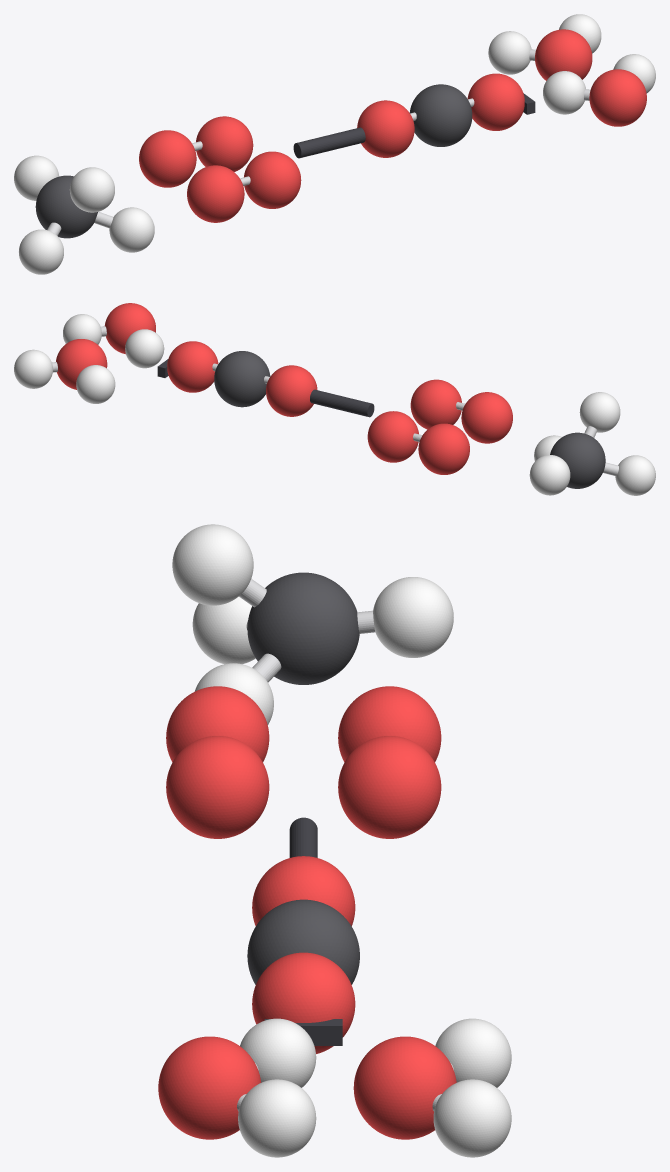
Rendered from modelo.glb.
The picture shows the model from 3 angles, top to bottom: view 1: azimuth 30°, elevation 25°; view 2: azimuth 150°, elevation 25°; view 3: azimuth 270°, elevation 25°; orthographic projection. The views are drawn at different scales.
Visible parts, largest first — view 1: CO2_C, O2_2_O1, H2O_1_O, O2_1_O1, O2_1_O2, CO2_O_dir, CO2_O_esq, O2_2_O2, CH4_C, H2O_2_O, CH4_H2, CH4_H1 (+7 smaller); view 2: CO2_C, O2_1_O1, O2_2_O1, O2_2_O2, CH4_C, CO2_O_dir, CO2_O_esq, O2_1_O2, H2O_1_O, H2O_2_O, CH4_H4, CH4_H1 (+7 smaller); view 3: CH4_C, O2_1_O2, O2_2_O2, H2O_1_O, H2O_2_O, CO2_O_dir, CO2_C, CH4_H3, CH4_H4, O2_1_O1, O2_2_O1, H2O_2_H2 (+8 smaller).
Boxes of the visible parts, bbox=[...] form: CO2_C: bbox=[409, 84, 472, 146]; O2_2_O1: bbox=[139, 130, 196, 187]; H2O_1_O: bbox=[589, 69, 646, 126]; O2_1_O1: bbox=[187, 165, 244, 222]; O2_1_O2: bbox=[244, 151, 301, 208]; CO2_O_dir: bbox=[467, 73, 524, 130]; CO2_O_esq: bbox=[357, 100, 414, 157]; O2_2_O2: bbox=[196, 116, 253, 171]; CH4_C: bbox=[35, 175, 97, 238]; H2O_2_O: bbox=[535, 29, 592, 80]; CH4_H2: bbox=[109, 207, 154, 252]; CH4_H1: bbox=[19, 229, 63, 274]; CO2_C: bbox=[214, 351, 270, 407]; O2_1_O1: bbox=[461, 392, 512, 443]; O2_2_O1: bbox=[418, 423, 469, 474]; O2_2_O2: bbox=[367, 411, 418, 462]; CH4_C: bbox=[550, 432, 605, 488]; CO2_O_dir: bbox=[167, 341, 218, 392]; CO2_O_esq: bbox=[266, 365, 317, 416]; O2_1_O2: bbox=[410, 379, 461, 429]; H2O_1_O: bbox=[104, 303, 155, 354]; H2O_2_O: bbox=[56, 339, 107, 389]; CH4_H4: bbox=[529, 455, 570, 495]; CH4_H1: bbox=[615, 455, 655, 495]; CH4_C: bbox=[247, 572, 359, 684]; O2_1_O2: bbox=[166, 736, 269, 838]; O2_2_O2: bbox=[338, 736, 441, 838]; H2O_1_O: bbox=[158, 1036, 261, 1139]; H2O_2_O: bbox=[353, 1036, 456, 1139]; CO2_O_dir: bbox=[252, 952, 355, 1053]; CO2_C: bbox=[247, 899, 359, 984]; CH4_H3: bbox=[172, 524, 253, 605]; CH4_H4: bbox=[373, 577, 453, 657]; O2_1_O1: bbox=[166, 686, 269, 762]; O2_2_O1: bbox=[338, 686, 441, 762]; H2O_2_H2: bbox=[433, 1079, 511, 1157].
Bounding box in the file's own units: 0.852 × 0.122 × 0.226.
